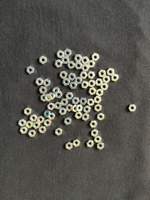nut: (39, 56, 47, 65), (57, 50, 65, 59), (111, 74, 120, 82), (18, 119, 26, 127), (24, 108, 32, 116), (39, 126, 47, 134), (37, 116, 45, 124), (44, 119, 52, 127), (43, 79, 51, 87), (48, 93, 56, 101), (52, 87, 60, 95), (55, 91, 63, 99), (47, 103, 55, 111), (55, 128, 63, 136), (73, 139, 81, 147), (55, 60, 63, 68), (62, 56, 70, 64), (64, 49, 72, 57), (60, 71, 68, 79), (63, 78, 71, 86), (68, 73, 76, 81), (75, 62, 83, 70), (75, 112, 83, 120), (97, 113, 105, 121), (94, 96, 102, 104), (81, 81, 89, 89), (88, 60, 96, 68), (92, 53, 100, 61), (89, 88, 97, 96), (96, 89, 104, 97), (99, 70, 107, 78), (101, 83, 109, 91), (103, 76, 111, 84), (107, 68, 115, 76), (20, 127, 28, 134), (26, 121, 33, 129), (27, 66, 34, 74), (36, 78, 43, 86), (39, 87, 47, 94), (41, 94, 48, 102), (44, 95, 52, 102), (44, 110, 51, 118), (48, 113, 56, 120), (55, 102, 62, 110), (64, 118, 72, 125), (66, 142, 73, 150), (87, 140, 94, 148), (59, 108, 67, 115), (61, 99, 69, 106), (66, 93, 74, 100), (68, 61, 75, 69), (74, 55, 82, 62), (70, 82, 78, 89), (66, 104, 73, 112), (76, 104, 83, 112), (75, 77, 83, 84), (80, 72, 88, 79), (80, 98, 88, 105), (84, 106, 91, 114), (82, 114, 90, 121), (90, 121, 98, 128), (87, 99, 95, 106), (95, 104, 102, 112), (82, 65, 90, 72), (82, 57, 89, 65), (88, 72, 96, 79), (89, 80, 96, 88), (129, 105, 137, 112), (29, 130, 36, 137), (30, 115, 37, 122), (33, 122, 40, 129), (72, 98, 79, 105), (97, 143, 104, 150), (95, 136, 102, 143), (92, 130, 99, 137), (96, 79, 103, 86), (72, 105, 78, 113)
